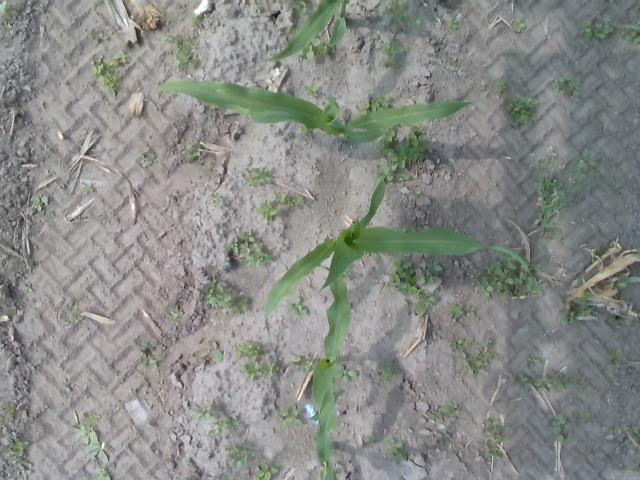Maize: (260, 180, 536, 330), (156, 80, 491, 144), (314, 263, 354, 480), (264, 0, 348, 64)
Weeds: (477, 252, 549, 301), (534, 144, 570, 242), (374, 122, 426, 184), (90, 51, 130, 96), (158, 32, 202, 72), (228, 230, 274, 268), (568, 145, 598, 195), (74, 424, 108, 464), (464, 336, 496, 376), (290, 27, 330, 58), (504, 96, 542, 128), (388, 258, 420, 296), (559, 291, 592, 326), (518, 372, 570, 392), (202, 278, 230, 311), (354, 92, 392, 116), (136, 341, 166, 370), (546, 414, 576, 442), (223, 444, 256, 468), (580, 20, 614, 42), (208, 415, 238, 439), (482, 417, 508, 444), (380, 39, 402, 70), (3, 437, 29, 463), (381, 0, 409, 23), (413, 288, 436, 316), (426, 404, 461, 422), (232, 340, 265, 359), (552, 76, 580, 98), (277, 404, 303, 427), (245, 166, 272, 188), (256, 198, 280, 222), (30, 195, 54, 218), (449, 337, 473, 360), (240, 357, 262, 382), (274, 192, 304, 210), (424, 260, 444, 285), (384, 438, 406, 460), (623, 18, 640, 46), (250, 463, 278, 480), (192, 348, 225, 362), (332, 364, 357, 382), (372, 361, 393, 382), (193, 403, 214, 423), (287, 296, 308, 315), (448, 302, 464, 325), (289, 356, 312, 372), (230, 295, 250, 313), (0, 0, 19, 18), (606, 347, 626, 364), (290, 0, 310, 16), (86, 467, 110, 480), (262, 361, 280, 378), (164, 304, 183, 320), (496, 77, 510, 98), (188, 12, 205, 28), (512, 15, 526, 33), (486, 444, 504, 458), (407, 13, 422, 29), (616, 273, 630, 289), (136, 154, 152, 168), (627, 426, 640, 443), (186, 148, 202, 161), (300, 122, 312, 139), (575, 374, 589, 388), (304, 82, 318, 96), (2, 403, 17, 416), (446, 14, 458, 29), (364, 248, 378, 260), (86, 412, 100, 424), (527, 357, 543, 367), (91, 30, 102, 44), (211, 194, 223, 205), (611, 316, 623, 326), (575, 411, 590, 419), (23, 284, 34, 293), (2, 21, 13, 30), (222, 473, 235, 480), (82, 185, 92, 194), (595, 246, 605, 255), (467, 306, 475, 317), (611, 426, 621, 434), (474, 440, 484, 448), (252, 5, 262, 13), (369, 433, 376, 443), (508, 45, 516, 53), (412, 188, 419, 197), (74, 316, 84, 322), (633, 465, 640, 473), (179, 475, 190, 480), (512, 204, 519, 211), (506, 399, 514, 405), (341, 270, 347, 278), (635, 244, 640, 252), (0, 417, 4, 427)
